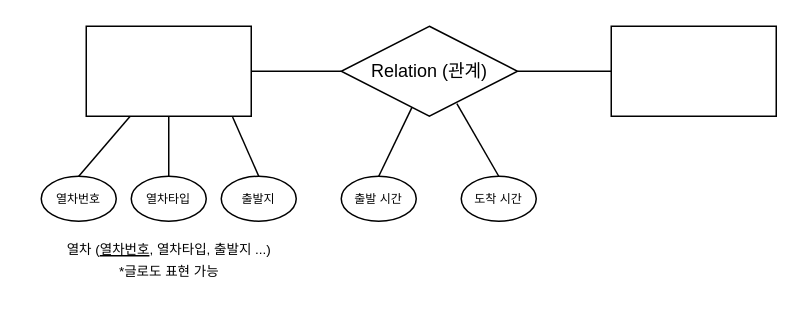
Image size: 803x315. Some labels were removed from this diagram. The centre of each missing label's shape, as x and y in pixels:
"Entity (개체)" goes at (x=693, y=70).
"열차" goes at (x=168, y=70).
